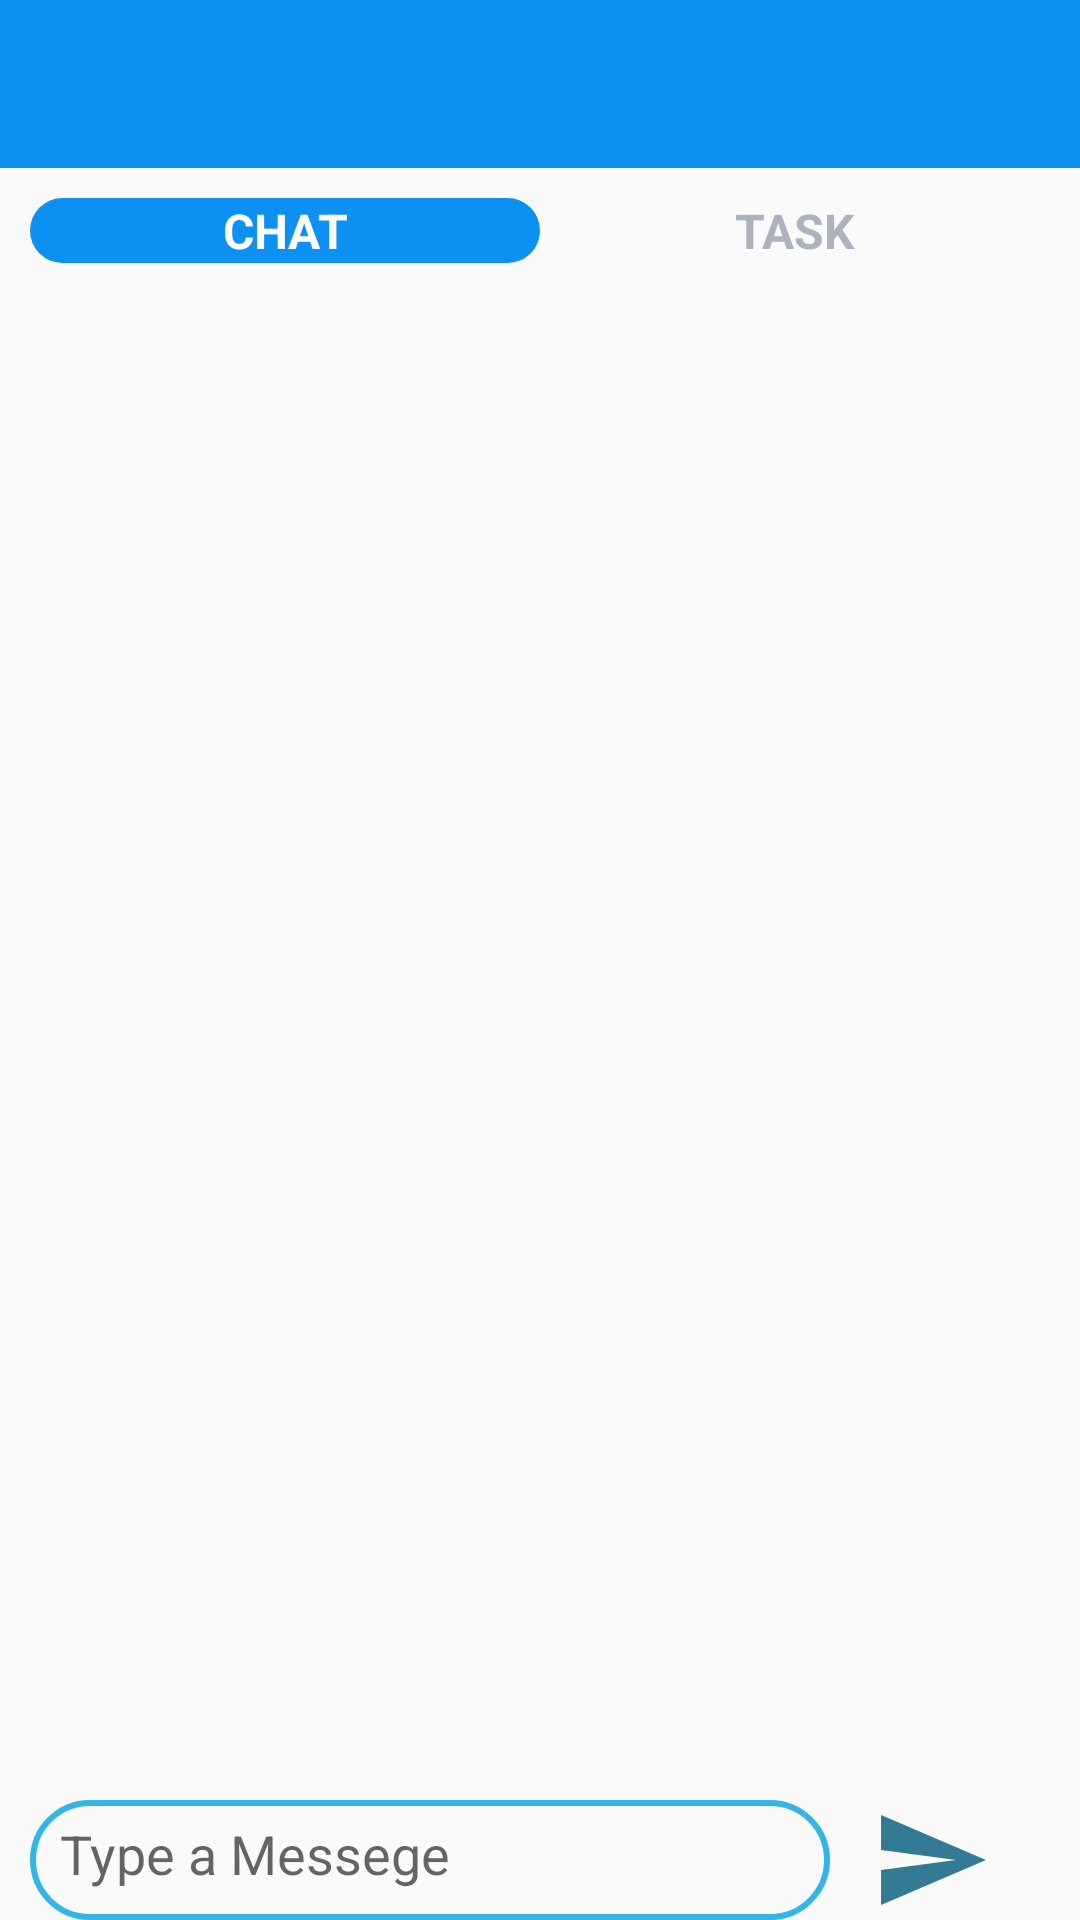

Screen size 1080*1920. Icon name, then its center in pixels as (x=x, y=y):
send: (x=933, y=1860)
